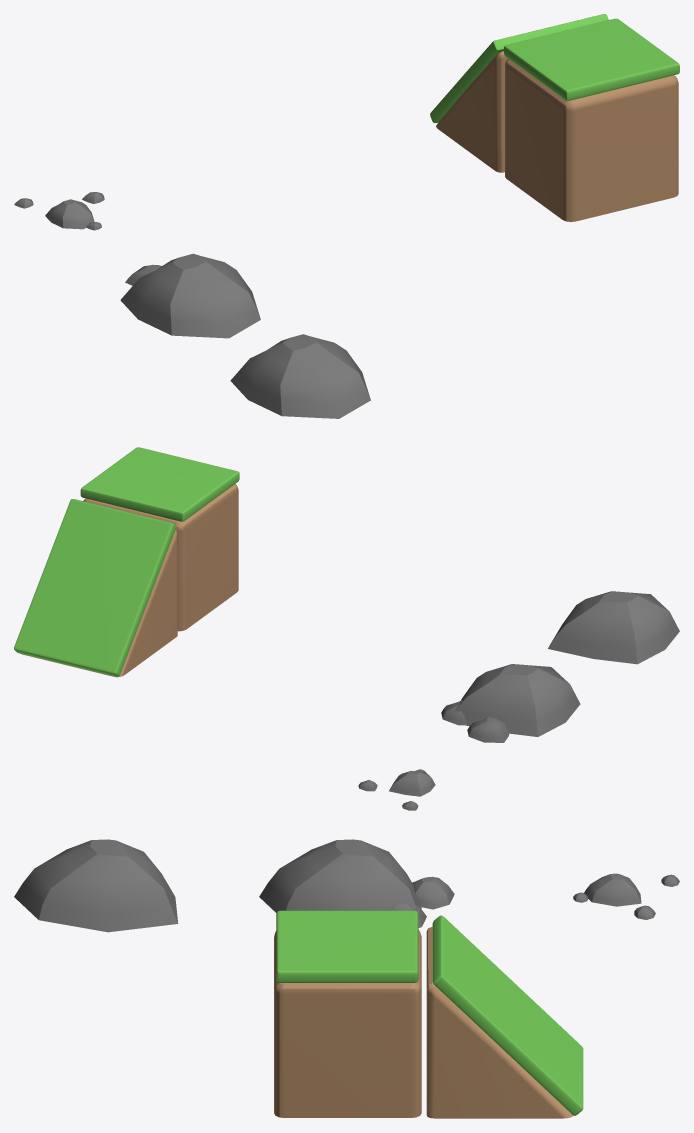
Rendered from zimen.fbx.
The picture shows the model from 3 angles, top to bottom: view 1: azimuth 30°, elevation 25°; view 2: azimuth 150°, elevation 25°; view 3: azimuth 270°, elevation 25°; orthographic projection. The views are drawn at different scales.
Visible parts, largest first — view 1: pCube1, pCube2, pCube4, pCube9, pCube3, pCube14, pCube10; view 2: pCube14, pCube1, pCube2, pCube4, pCube9, pCube3, pCube10, pCube7; view 3: pCube1, pCube14, pCube3, pCube4, pCube2, pCube9, pCube10, pCube7.
Part boxes in pixels (x1,y1,x2,y2): pCube1: (505,58,678,221); pCube2: (504,18,679,100); pCube4: (230,334,370,418); pCube9: (120,253,260,338); pCube3: (436,51,507,172); pCube14: (430,14,608,123); pCube10: (45,199,94,229); pCube14: (14,499,175,676); pCube1: (83,484,238,631); pCube2: (80,447,239,521); pCube4: (548,591,679,664); pCube9: (455,664,580,736); pCube3: (21,529,177,677); pCube10: (389,770,435,796); pCube7: (467,717,509,742); pCube1: (274,930,421,1117); pCube14: (432,915,583,1115); pCube3: (426,926,573,1118); pCube4: (14,839,178,932); pCube2: (276,910,418,982); pCube9: (259,839,421,912); pCube10: (584,873,641,906); pCube7: (412,876,454,909).
Size of the model in its own units: 8.87 by 2.62 by 9.03.
